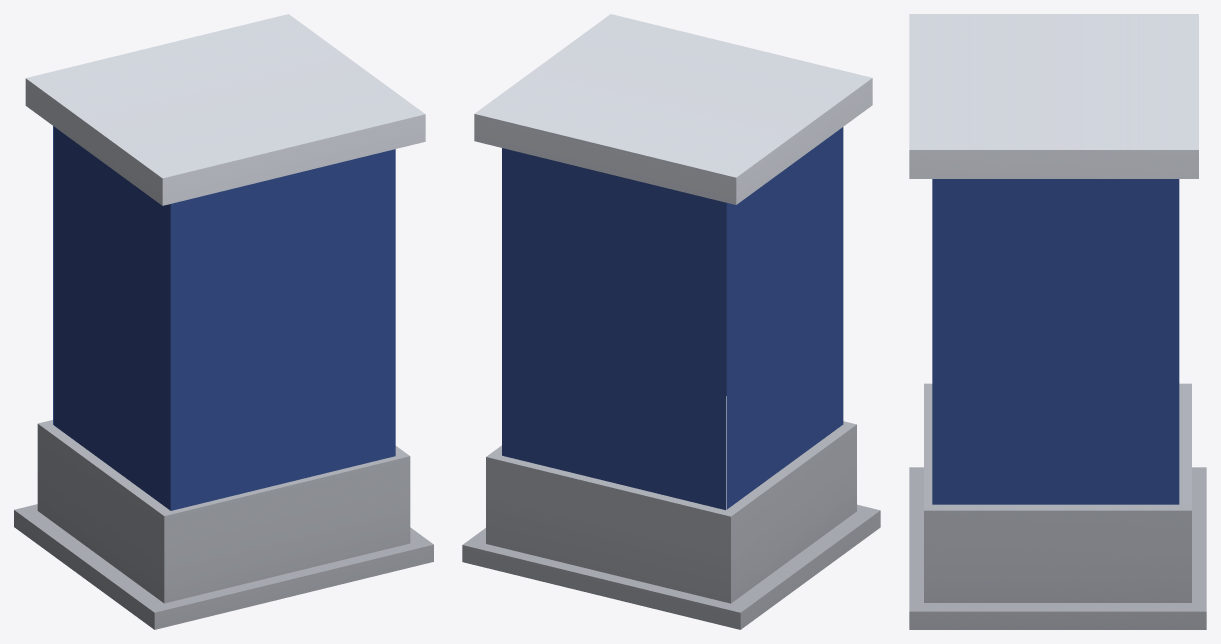
The model's file is glass.fbx.
3 renders of one model, left to right at view 1: azimuth 30°, elevation 25°; view 2: azimuth 150°, elevation 25°; view 3: azimuth 270°, elevation 25°, orthographic. The views are drawn at different scales.
Parts seen in each view (by area): view 1: glass, Base; view 2: glass, Base; view 3: Base, glass.
Boxes of the visible parts, x1,y1,x2,y2 form: glass: [53, 126, 395, 510]; Base: [14, 14, 433, 629]; glass: [502, 127, 843, 510]; Base: [462, 14, 880, 629]; Base: [909, 14, 1206, 629]; glass: [932, 179, 1179, 504].
Bounding box in the file's own units: 28.7 × 44.13 × 25.02.
Materials: 2 (1 with a texture image).
